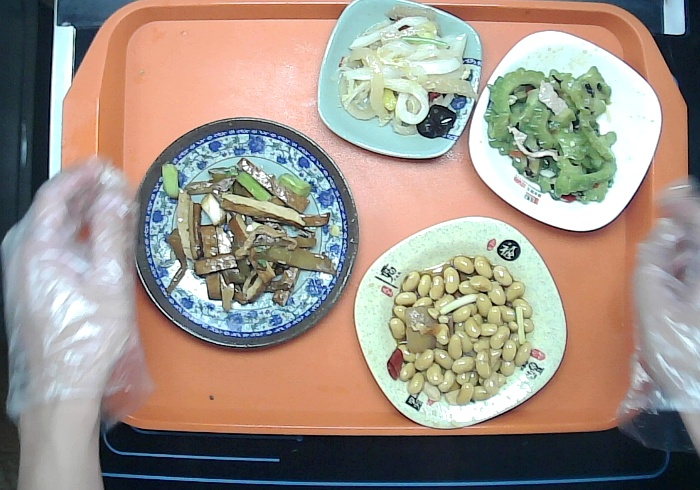NLDX-Bai_Se_Xiao_Fang_Die: (467, 25, 662, 238)
NLDX-Fu_Zi_Fang_Die: (349, 210, 568, 434)
NLDX-Qing_Hua_Xiao_Fang_Die: (312, 1, 487, 162)
NLDX-Qing_Hua_Yuan_Die: (122, 113, 360, 354)
